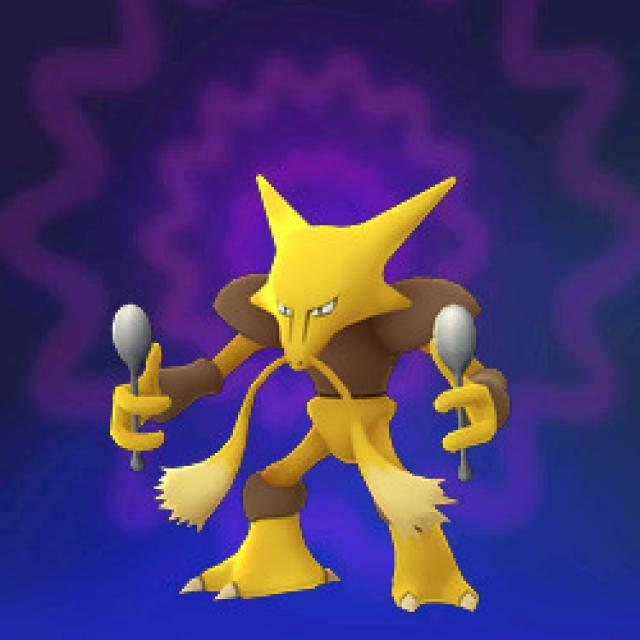Alakazam: (175, 173, 462, 591)
